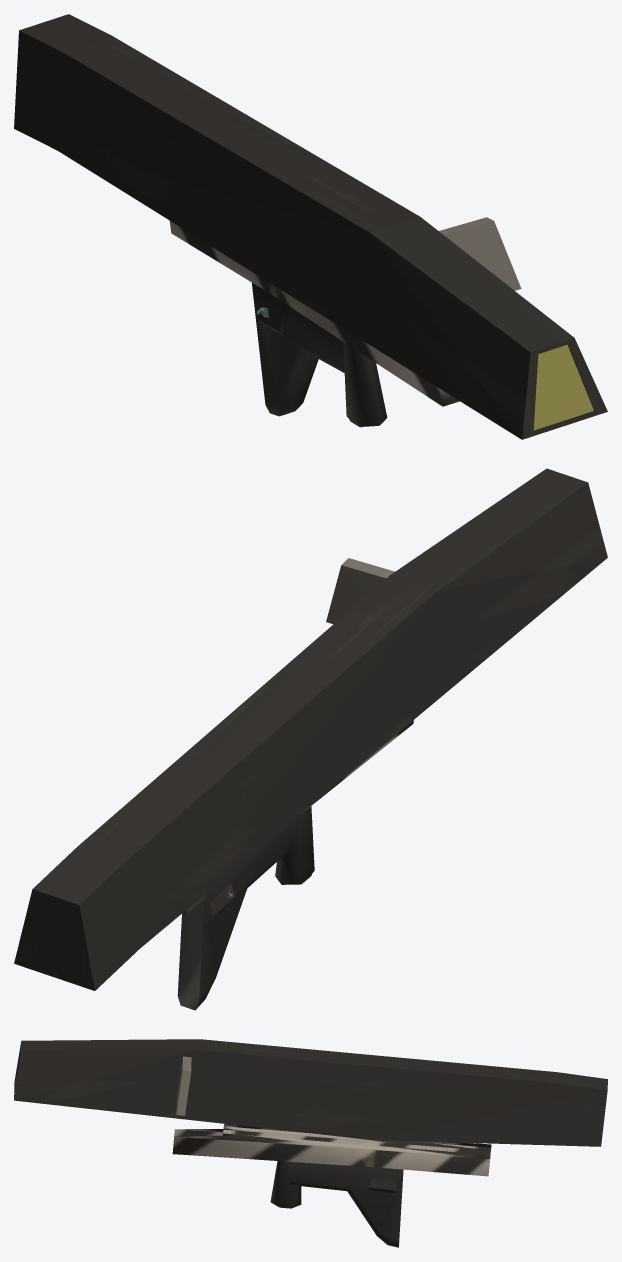
The model's file is plama_rpg.dae.
The picture shows the model from 3 angles, top to bottom: view 1: azimuth 30°, elevation 25°; view 2: azimuth 150°, elevation 25°; view 3: azimuth 270°, elevation 25°; orthographic projection. The views are drawn at different scales.
Visible parts, largest first — view 1: plama_rpg; view 2: plama_rpg; view 3: plama_rpg.
Part boxes in pixels (x1,y1,x2,y2): plama_rpg: [14, 14, 607, 439]; plama_rpg: [14, 468, 607, 1010]; plama_rpg: [14, 1039, 607, 1247].
Bounding box in the file's own units: 0.504 × 3.21 × 1.11.
